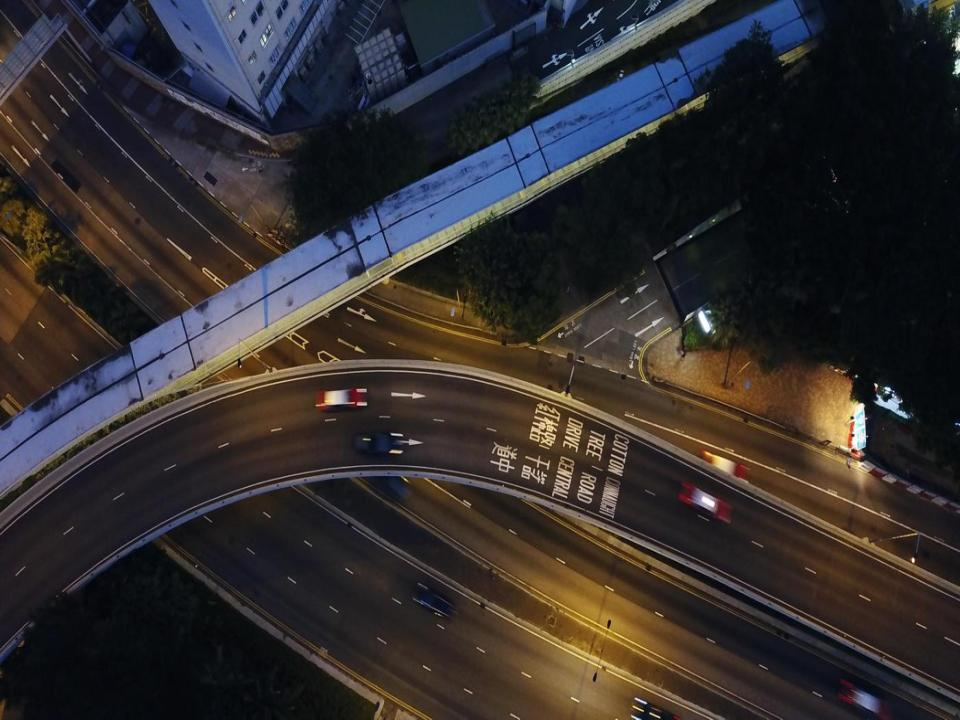car: (679, 479, 732, 526), (698, 450, 750, 494), (839, 684, 892, 716), (314, 385, 368, 410), (350, 431, 406, 455), (412, 584, 451, 618), (626, 697, 670, 719)
